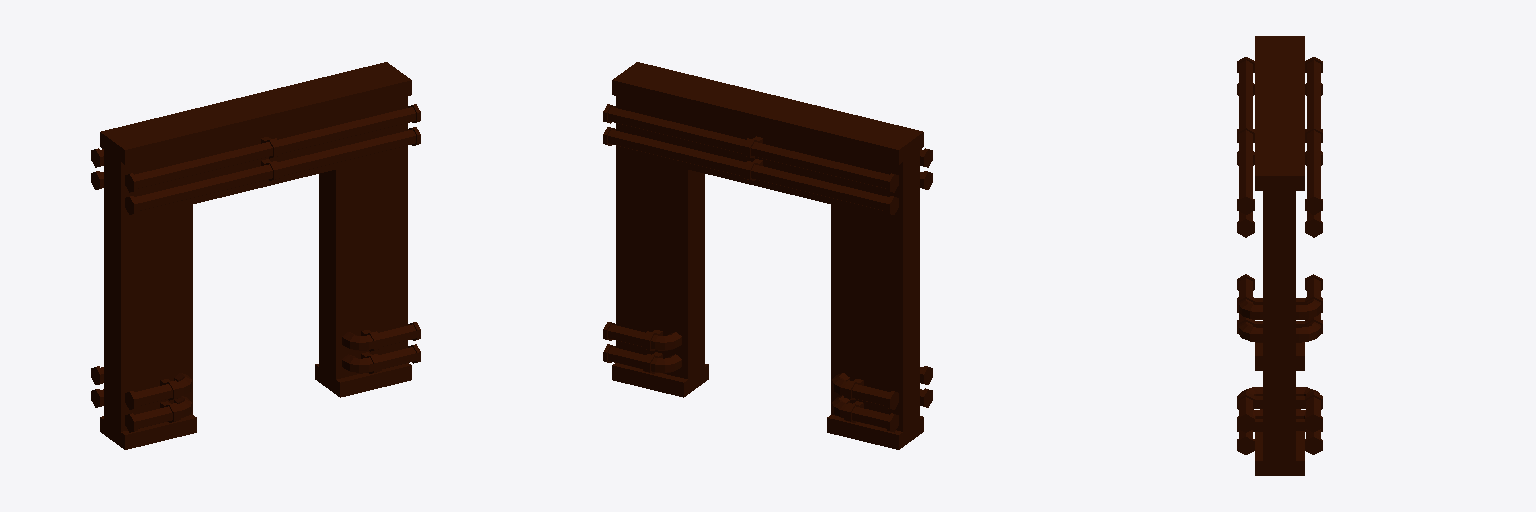
The model's file is 4x4_wall_doorway_pipe.obj.
The picture shows the model from 3 angles: view 1: azimuth 30°, elevation 25°; view 2: azimuth 150°, elevation 25°; view 3: azimuth 270°, elevation 25°; orthographic projection.
Parts seen in each view (by area): view 1: wall, gear; view 2: wall, gear; view 3: wall, gear.
Part boxes in pixels (x1,y1,x2,y2): wall: (100, 62, 411, 449); gear: (91, 104, 420, 432); wall: (612, 62, 923, 449); gear: (603, 104, 932, 432); wall: (1255, 36, 1304, 475); gear: (1237, 57, 1322, 454).
Bounding box in the file's own units: 4 × 4 × 1.04.